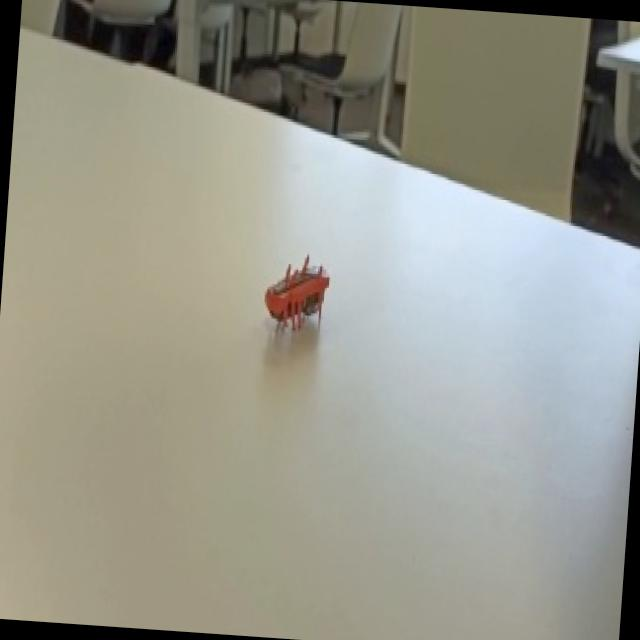7_NanoBug_Naranja: (236, 236, 359, 368)
